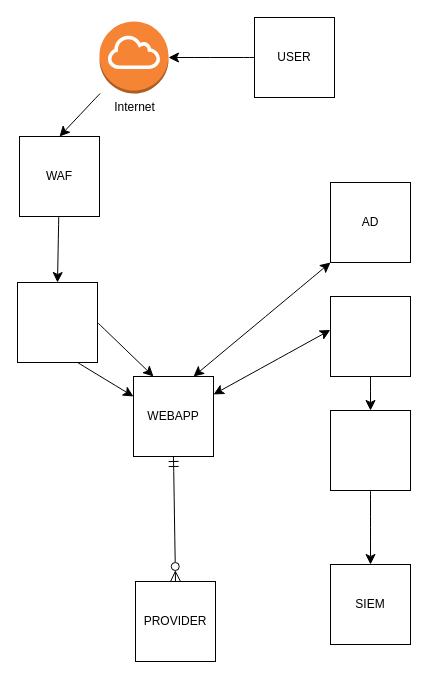
The diagram is 428 pixels wide and 679 high, and some of its shapes have lost their labels. Here are the shapes that lost their labels. From the top down, the centre of each, then its label:
At pixel 57 322: "LB".
At pixel 370 336: "DB".
At pixel 370 450: "IPS/IDS".
